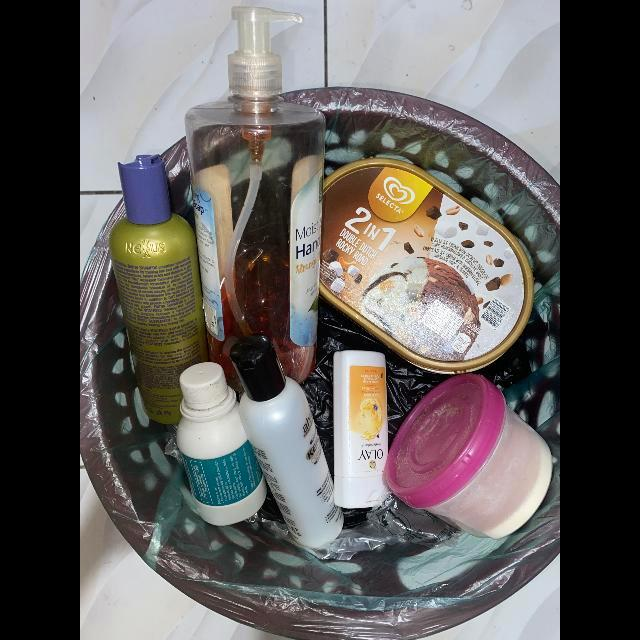plastic_bottle: (184, 7, 326, 386), (109, 154, 211, 430), (229, 335, 344, 551), (176, 362, 267, 527), (333, 350, 390, 510)
plastic_container: (320, 156, 536, 375), (383, 373, 551, 541)
